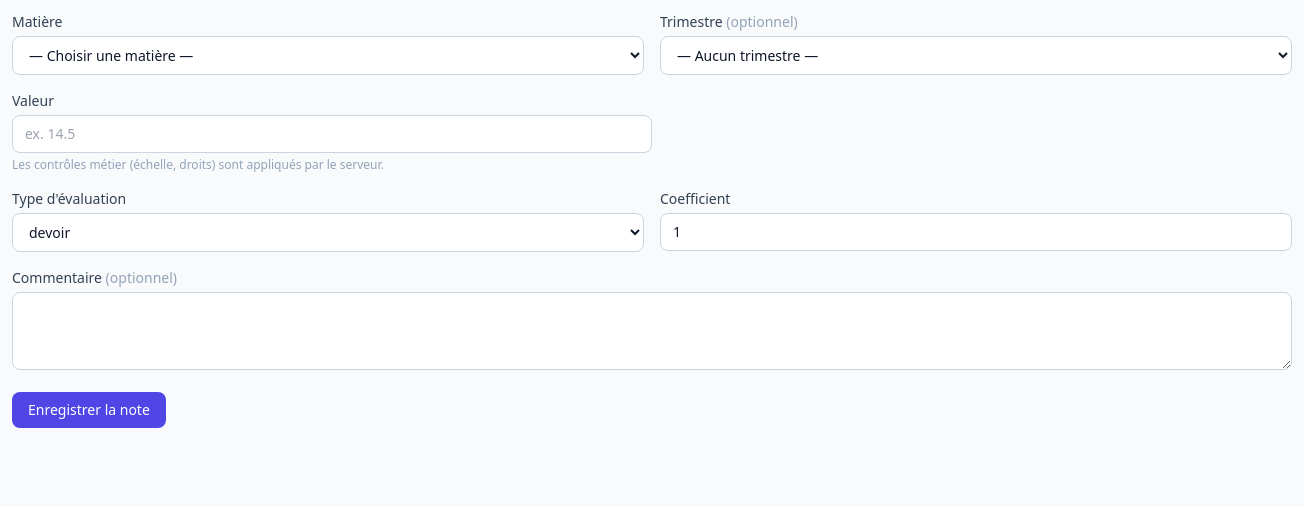
Test: FormulaireSaisieNote › soumet la note et notifie la liste (basic/crédit)
Expected: the number field labelled "Valeur" is shown, 12,115 -> 652,153
Select "Maths (MAT)" in the dropdown labelled "Matière": [328, 56] box 12,36 -> 644,75
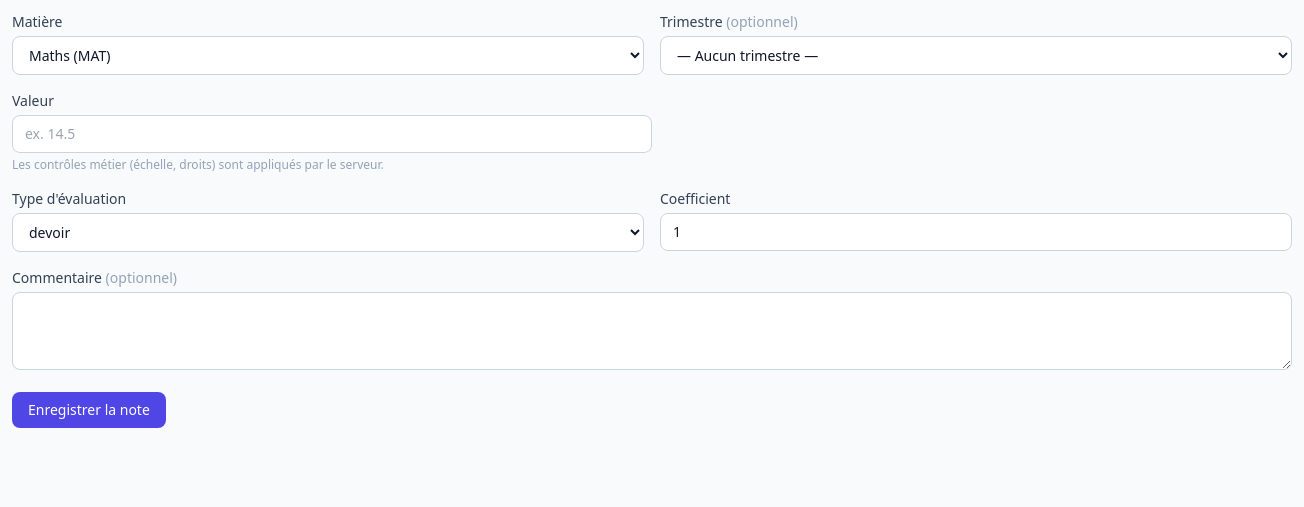
In the number field labelled "Valeur": [332, 134] box 12,115 -> 652,153, type "15"
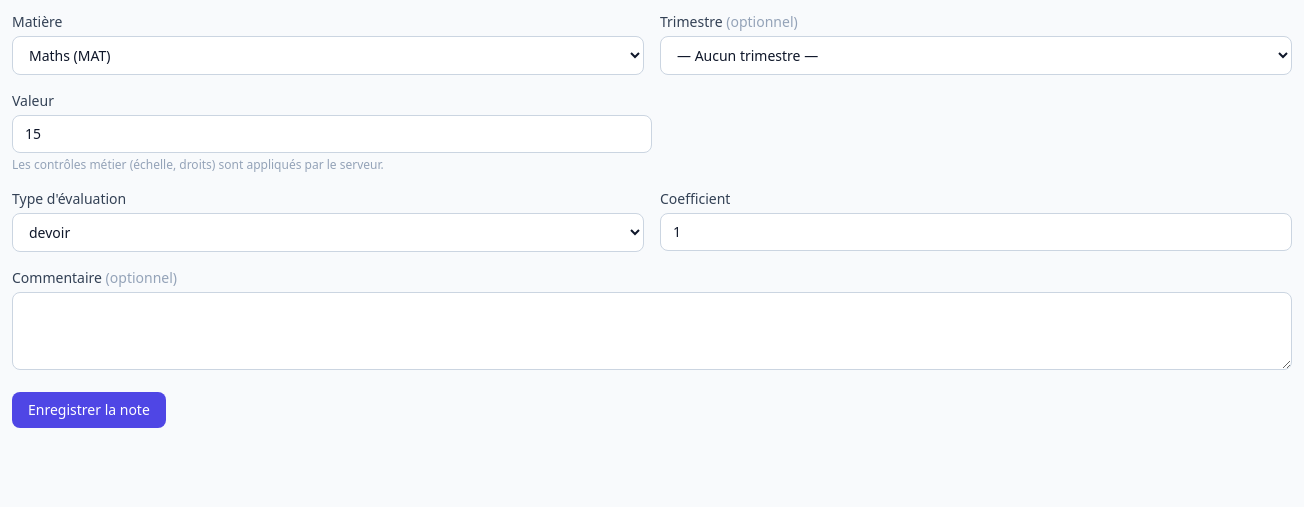
Submit the form labelled "Matière"
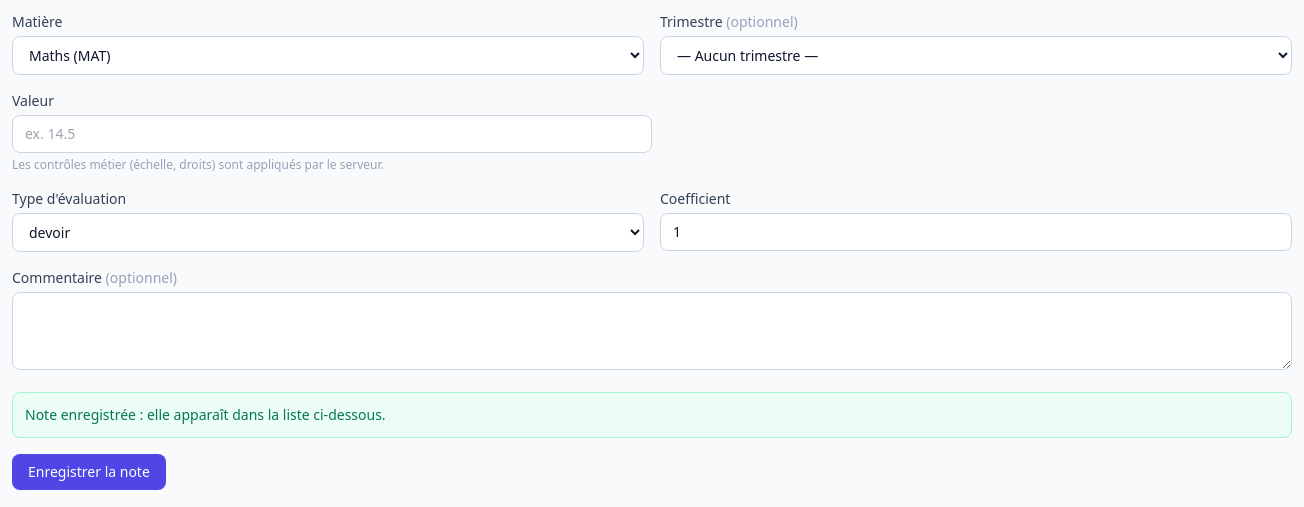
Now the text "Note enregistrée : elle apparaît dans la liste ci-dessous." is shown, box 12,392 -> 1292,438
